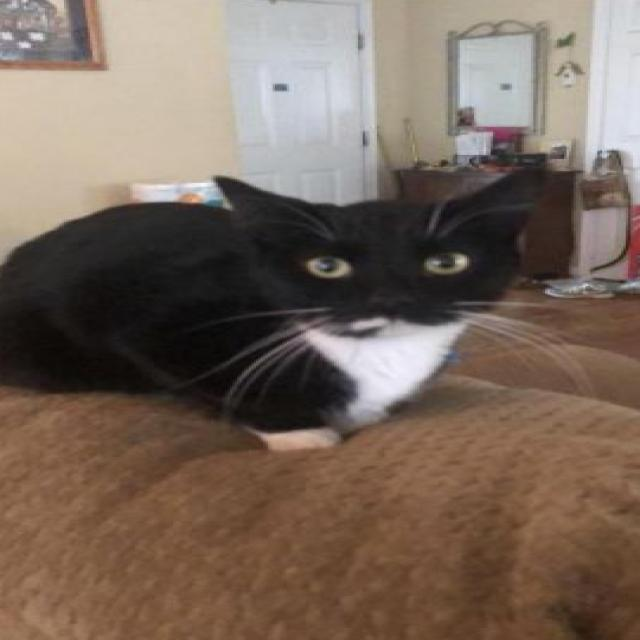Tuxedo: (0, 171, 538, 457)
